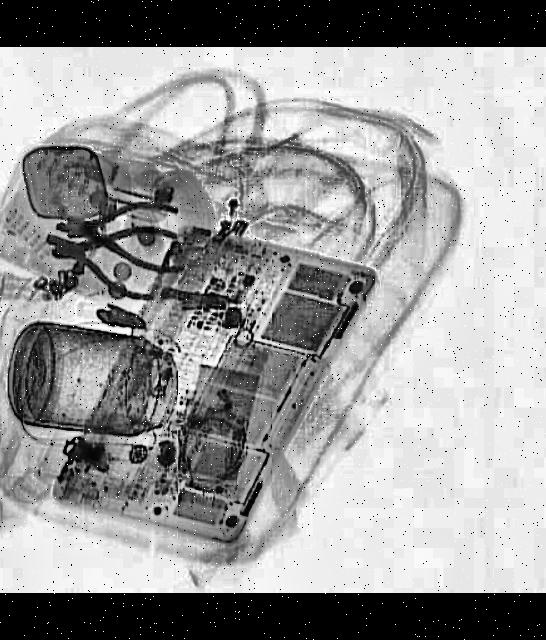Pliers: (40, 208, 178, 302), (64, 192, 192, 270)
